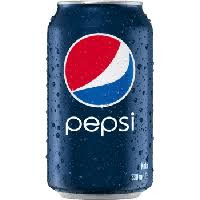pepsi: (47, 1, 152, 200)
